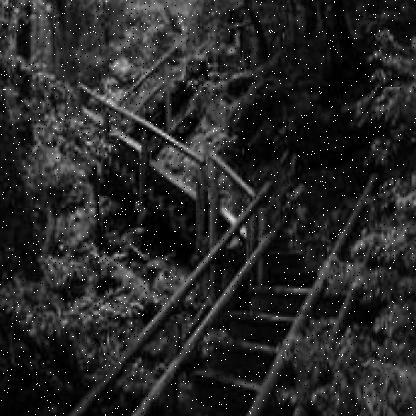stair_up: (168, 238, 318, 393)
